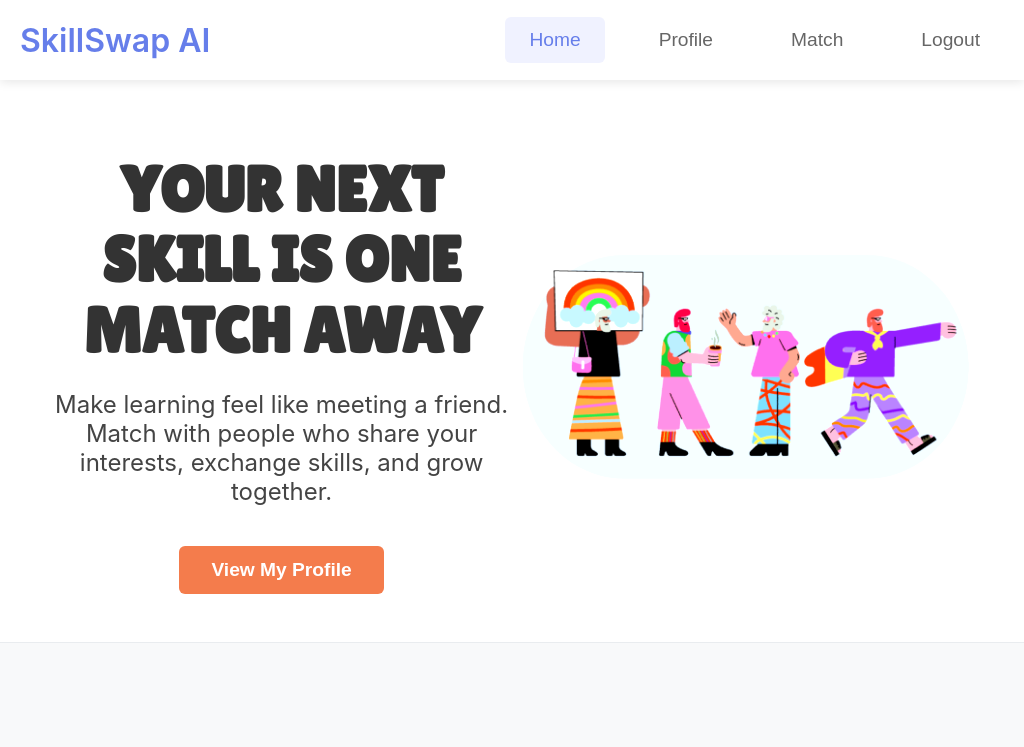
Test case: App Integration Tests › Profile Management Flow › should validate required fields when saving profile
// Navigate to profile page
Click the button "Profile". click: (686, 40)
box: [635,17,737,63]
(page scrolled)
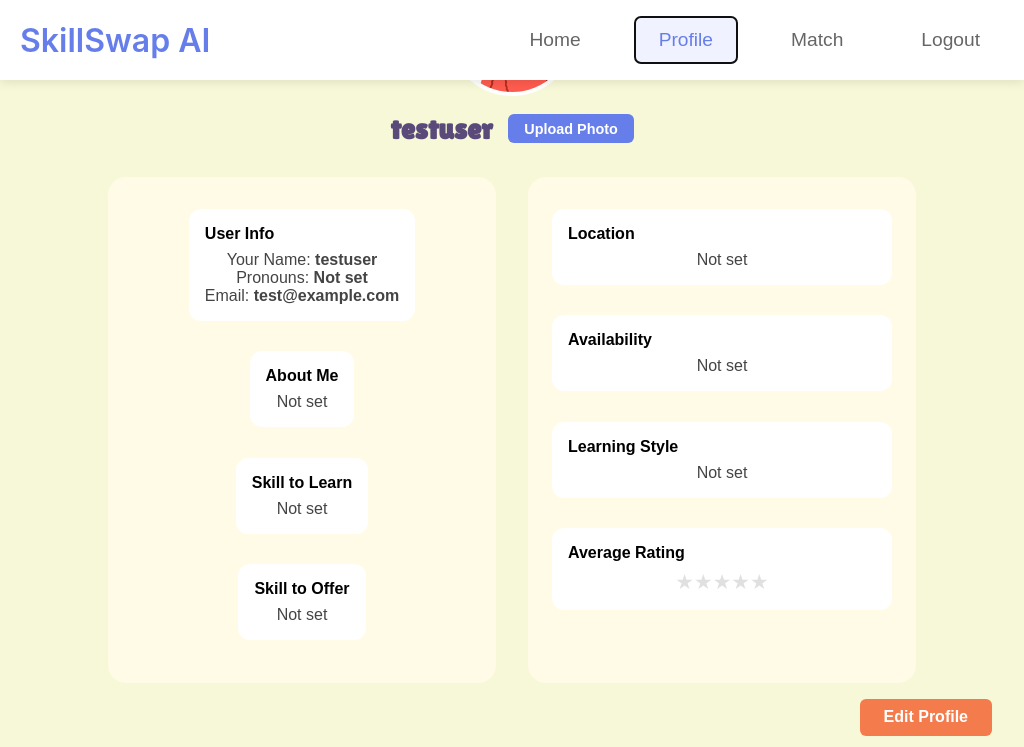
expect the heading "testuser" is shown: met, box [390,112,492,145]
// Click edit profile button to enter edit mode
Click the button "Edit Profile". click: (926, 717)
box: [860,699,992,736]
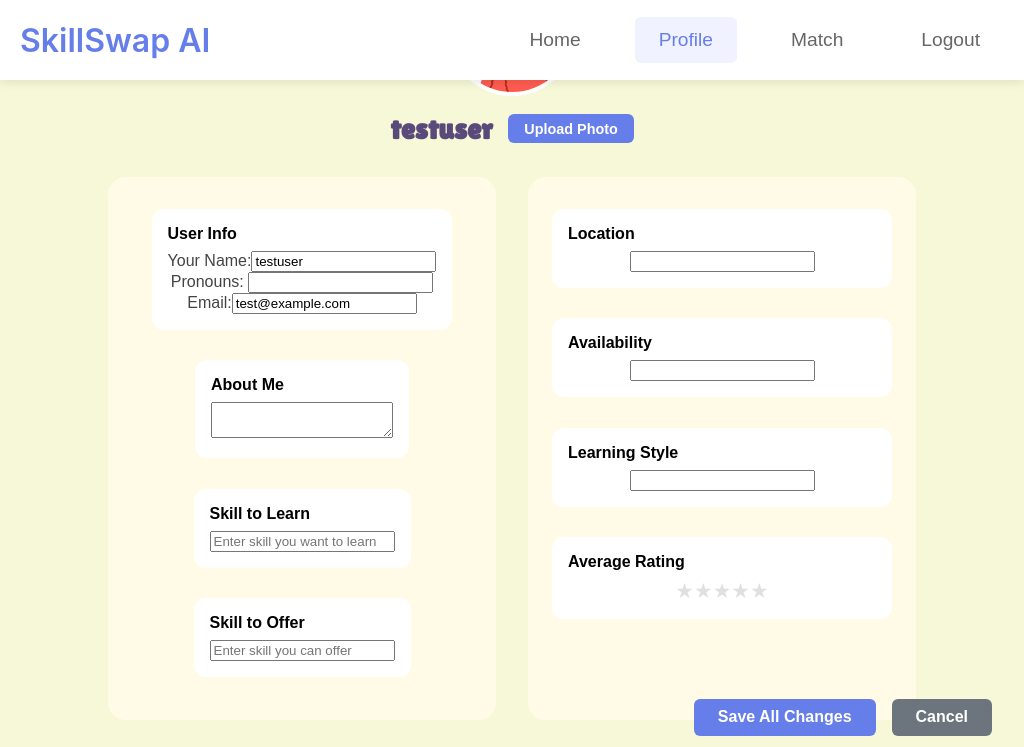
expect the field showing "testuser" next to "Your Name:" is shown: met
// Clear required fields
Clear the field showing "testuser" next to "Your Name:". click: (344, 262)
box: [252,251,436,272]
Clear the field showing "test@example.com" next to "Email:". click: (324, 304)
box: [232,293,417,314]
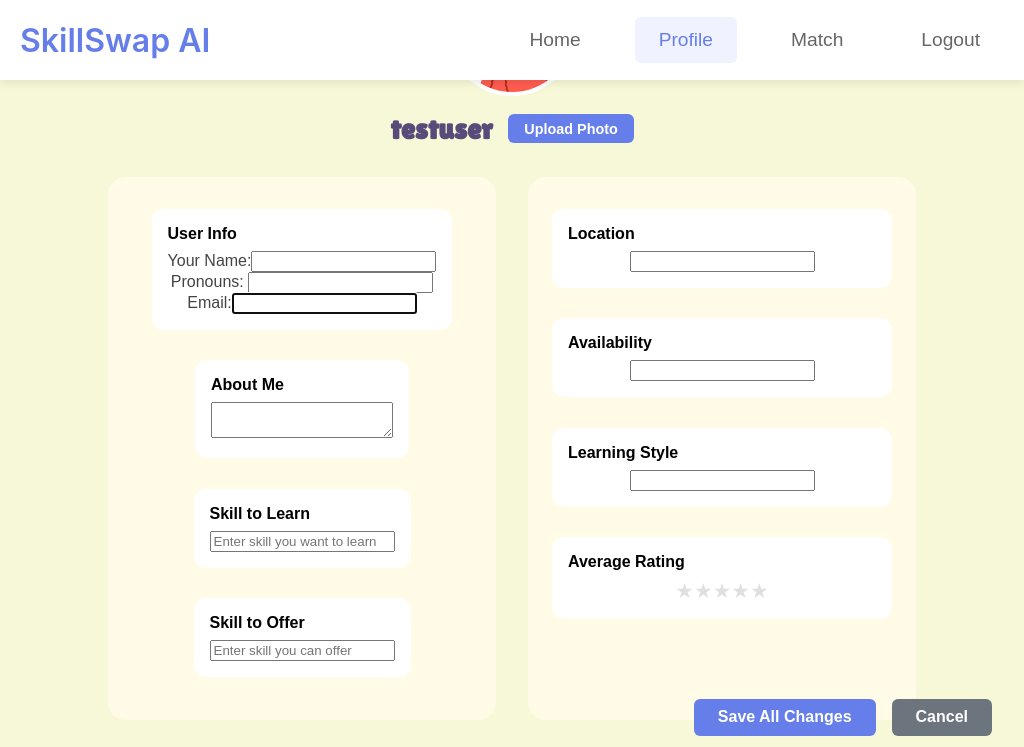
Clear the field with placeholder "Enter skill you can offer". click: (302, 651)
box: [210,640,394,661]
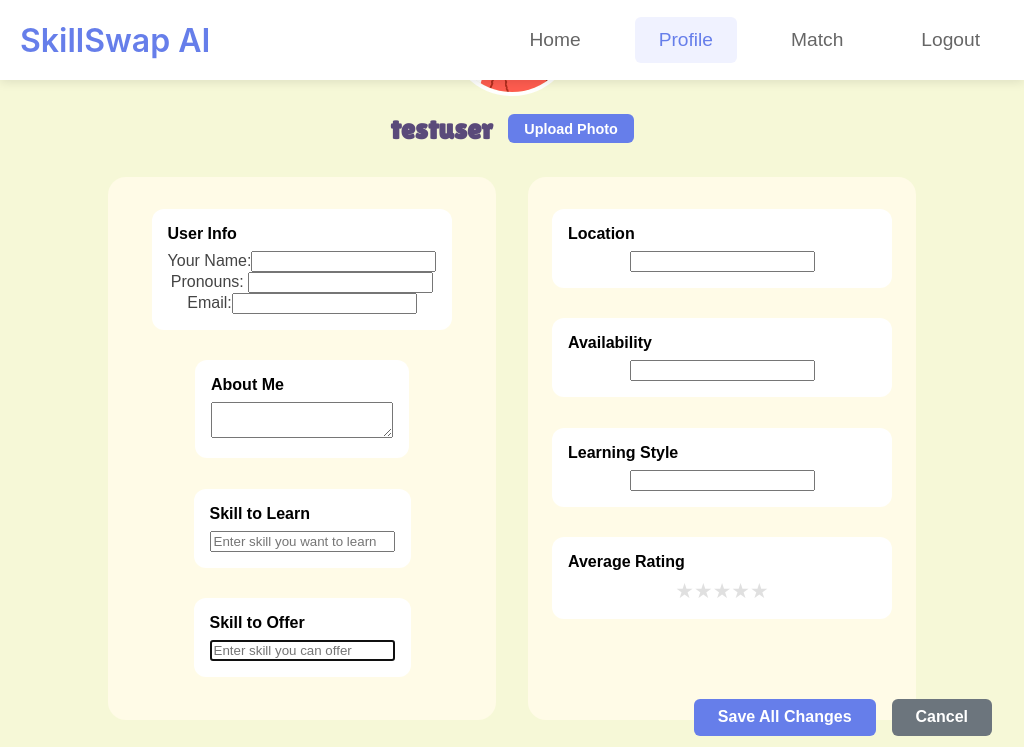
Clear the field with placeholder "Enter skill you want to learn". click: (302, 541)
box: [210,531,394,552]
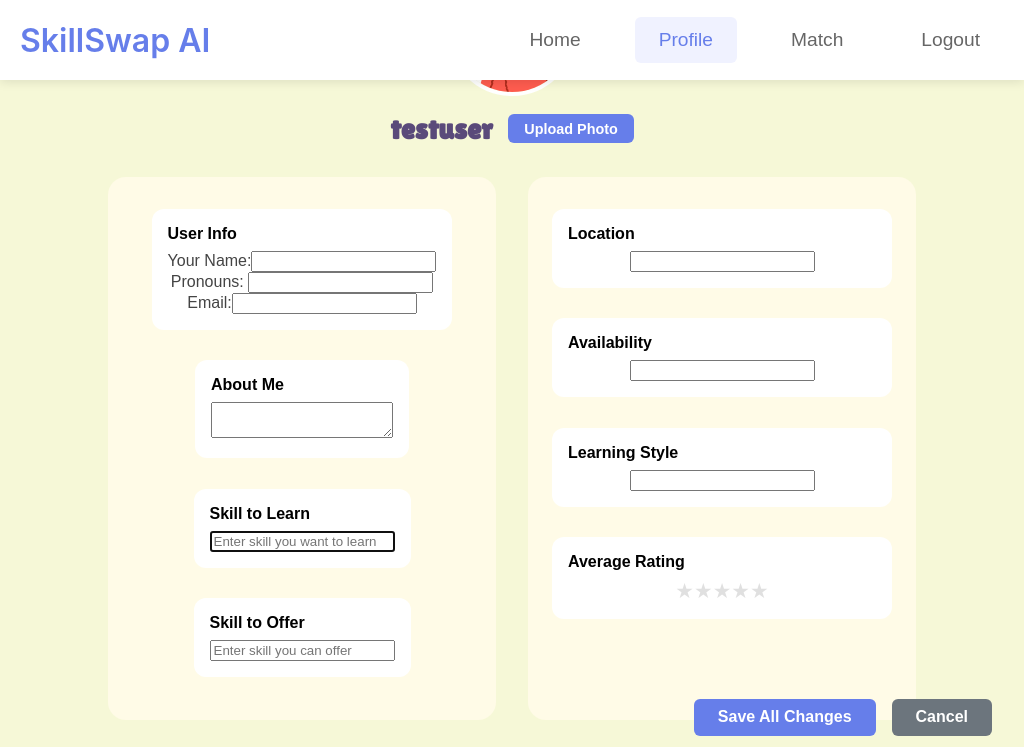
// Try to save
Click the button "Save All Changes". click: (785, 717)
box: [694,699,876,736]
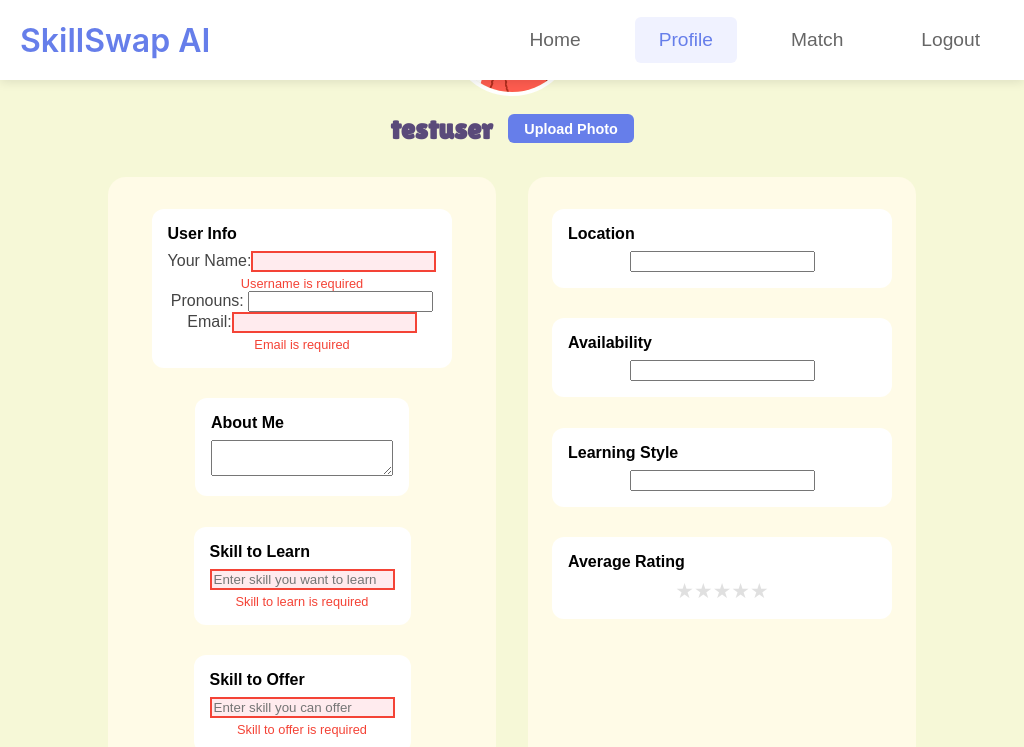
expect the text "Username is required" is shown: met, box [241,276,363,291]
expect the text "Email is required" is shown: met, box [254,337,350,352]
expect the text "Skill to offer is required" is shown: met, box [237,722,367,737]
